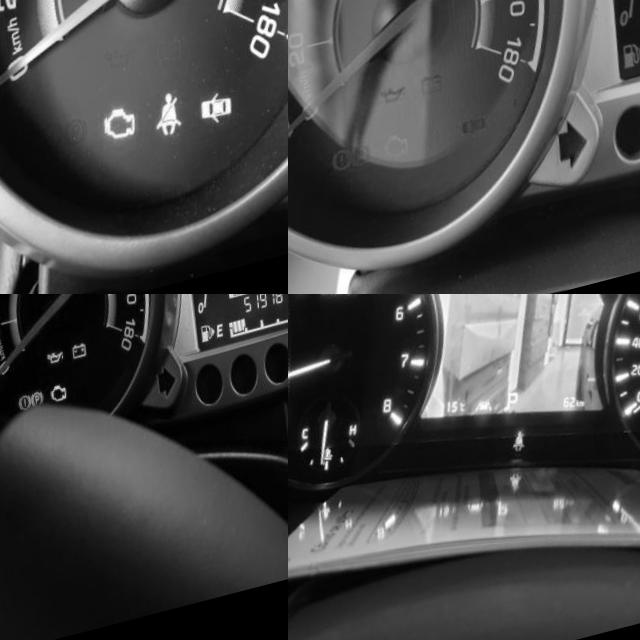Doors: (186, 107, 224, 149), (448, 122, 477, 153)
